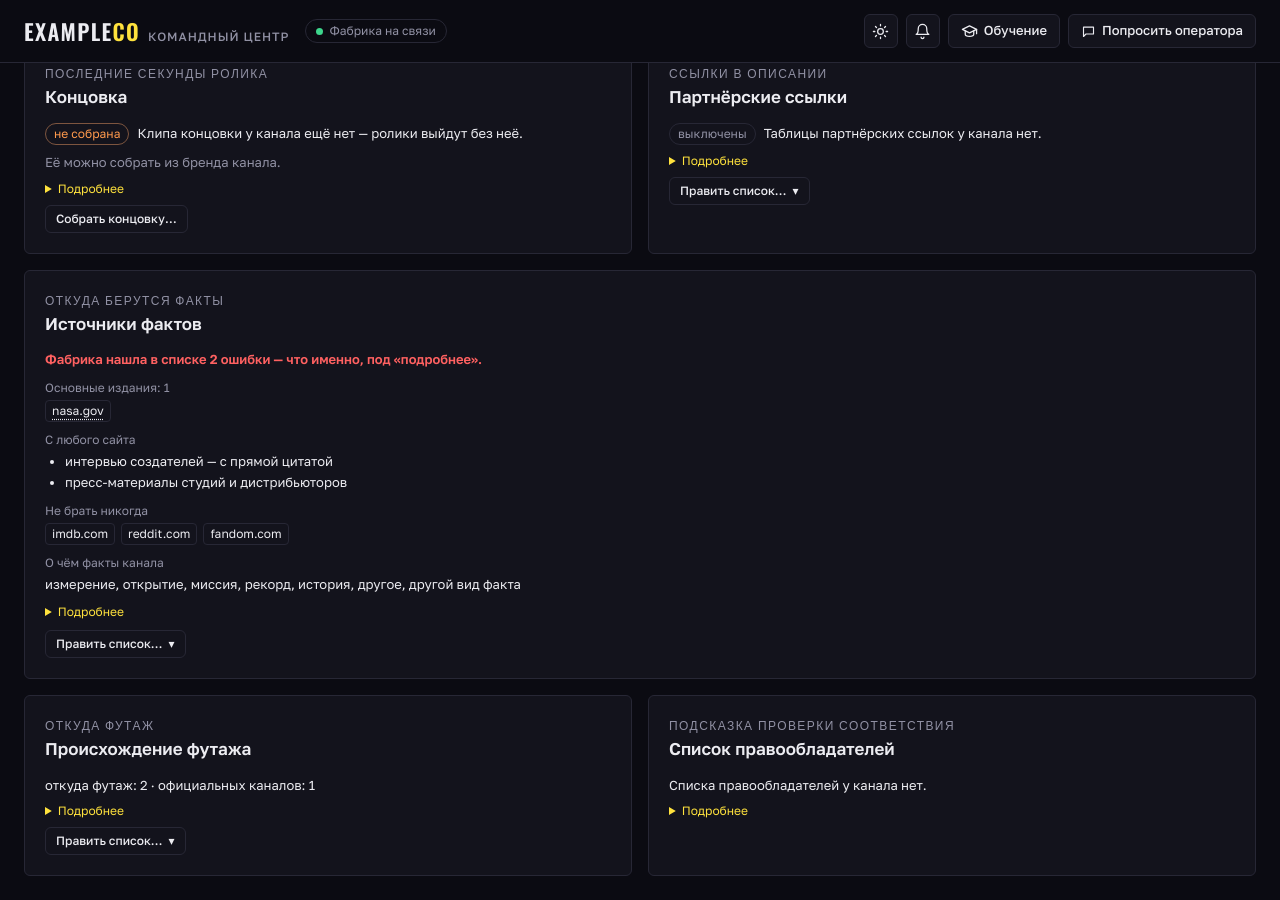
Test: данные канала: правка списков и концовка (CC-0115 шаг 3) › Science: отказ проверки фабрики — словами, строка фабрики под «подробнее»
This screenshot has width=1280, height=900.
(page scrolled)
What coordinates should you click on to do the following:
click the button with test id "list-footage-origin-toggle"
I would click on:
 (115, 841)
Its box is [45,827,186,855].
(page scrolled)
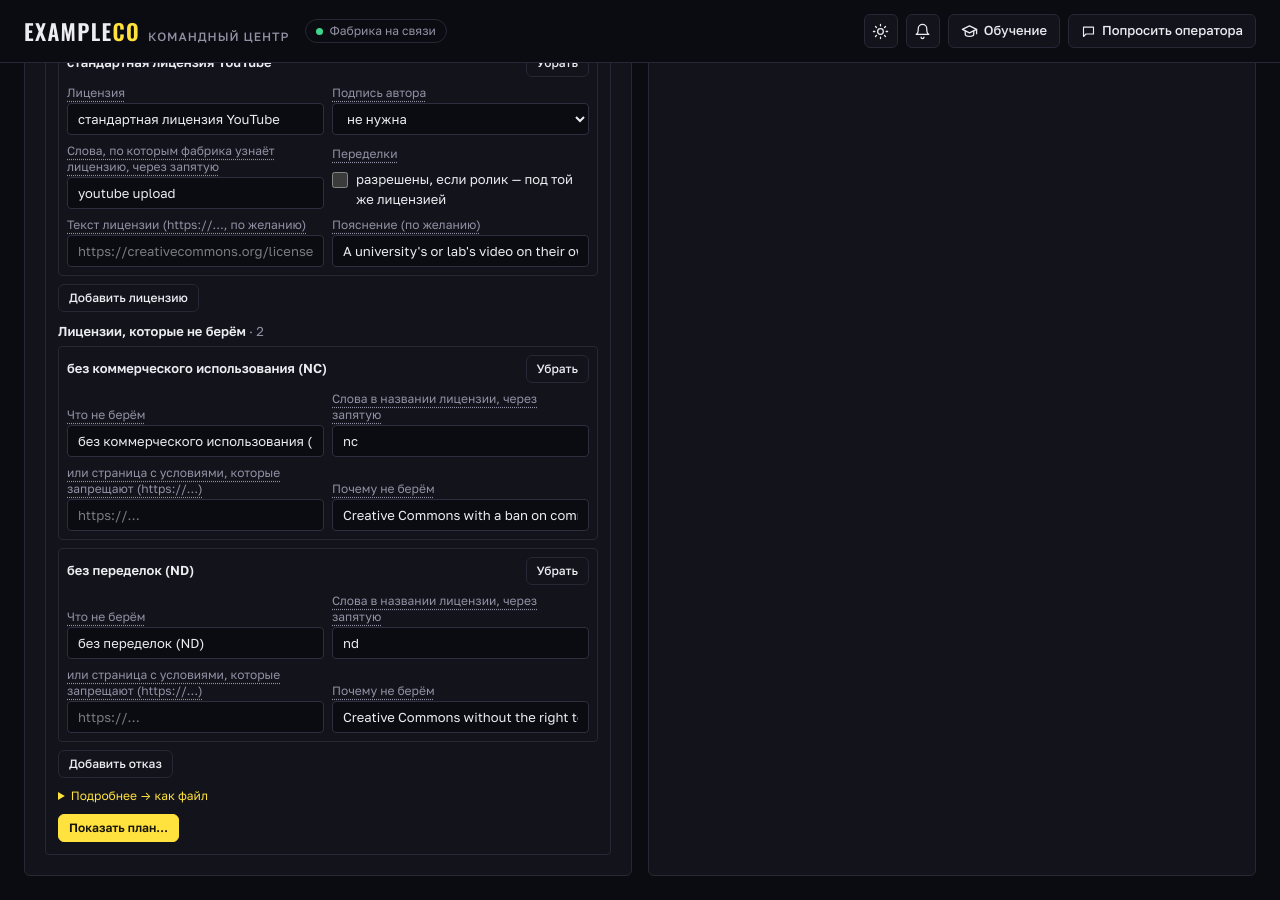
What coordinates should you click on to do the following:
click the button with test id "list-footage-origin-open"
I would click on:
 (118, 828)
Its box is [58,814,179,842].
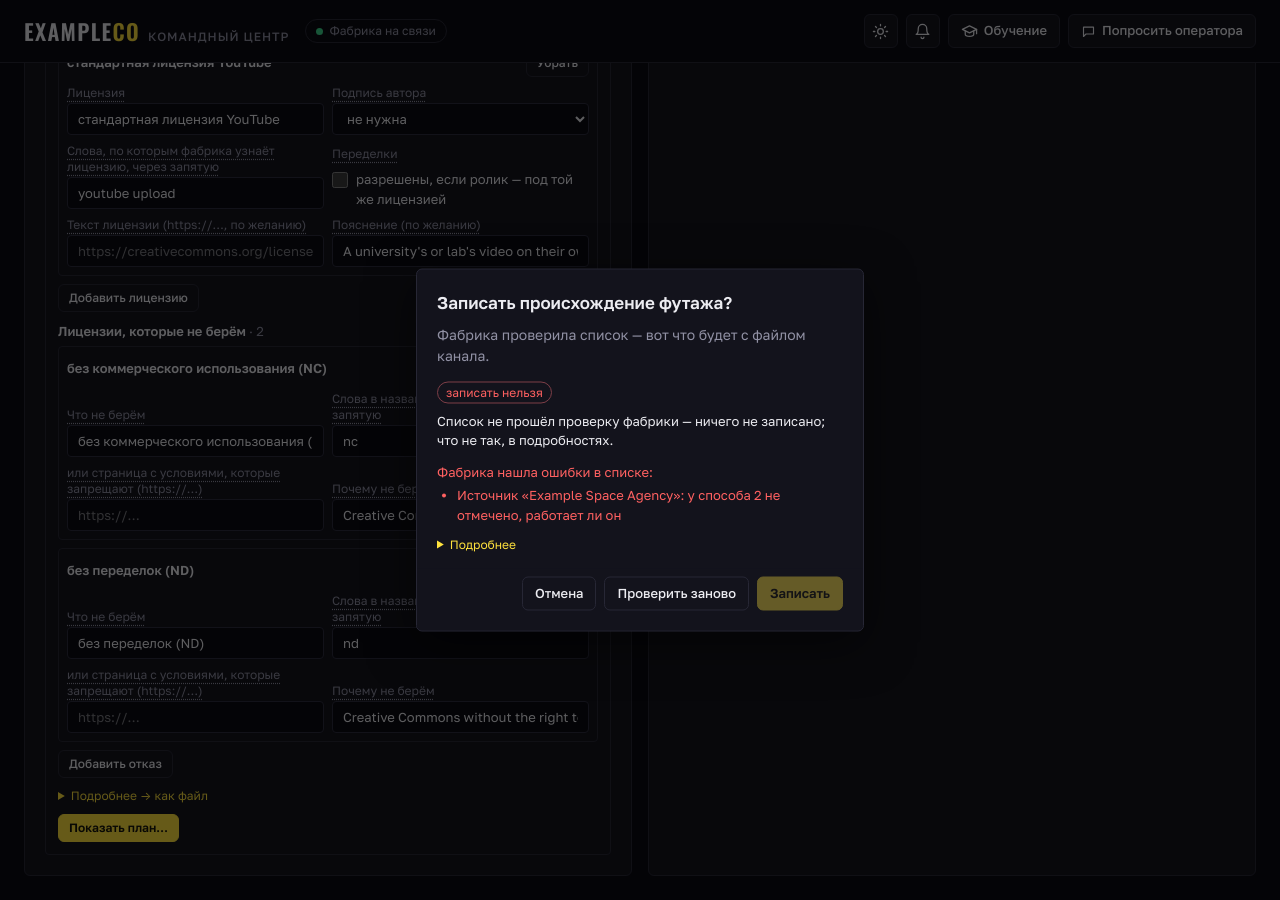
Now the list with test id "list-plan-invalid-lines" reads "Источник «Example Space Agency»: у способа 2 не отмечено, работает ли он", box [457,486,780,522]
Now the element with test id "plan-head" shows "записать нельзя", box [446,384,543,399]
